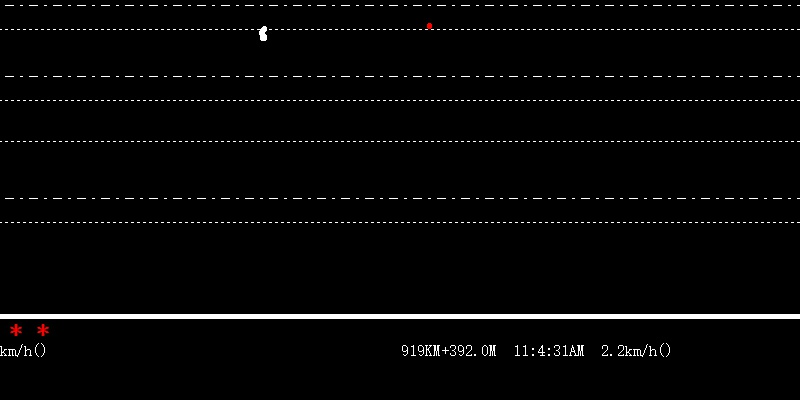face_1: (257, 25, 269, 42), (425, 17, 432, 32)
star: (32, 320, 52, 341), (7, 320, 24, 340)
